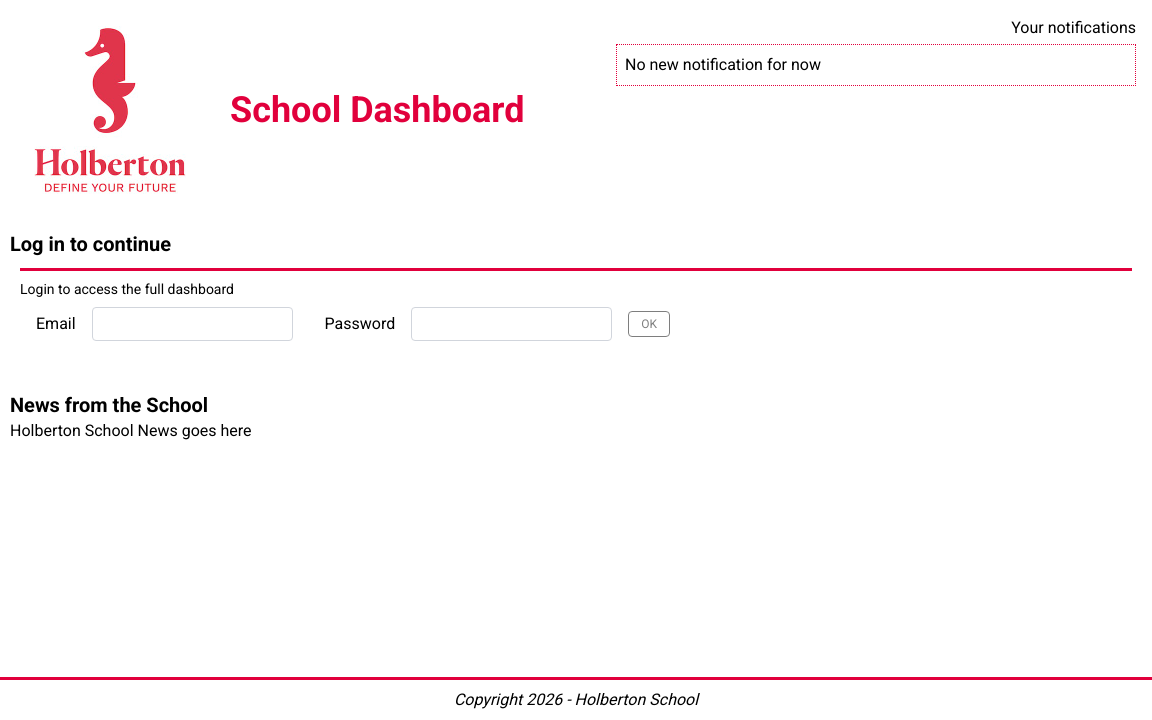
it: App (Task 4) › renders CourseList after a successful login (instead of isLoggedIn=true prop)
Type "user@test.com" into the field labelled "Email" at [192, 324], box [92,307,293,341]
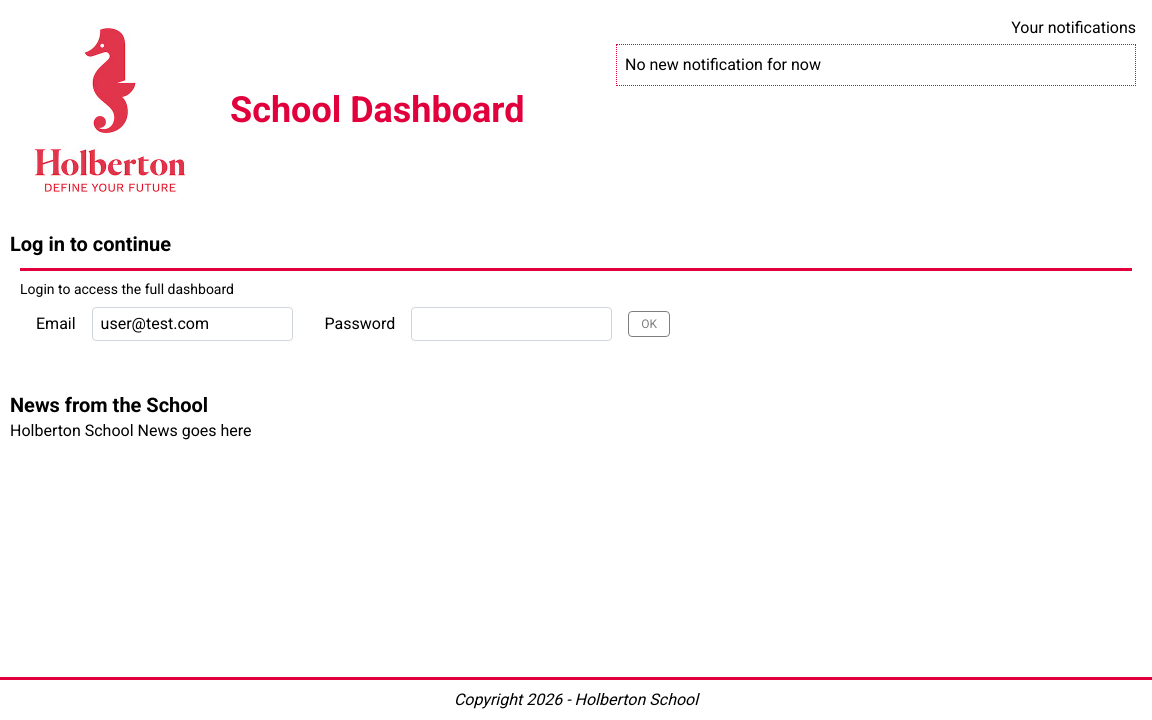
Type "longpass" into the password field labelled "Password" at [512, 324], box [411,307,612,341]
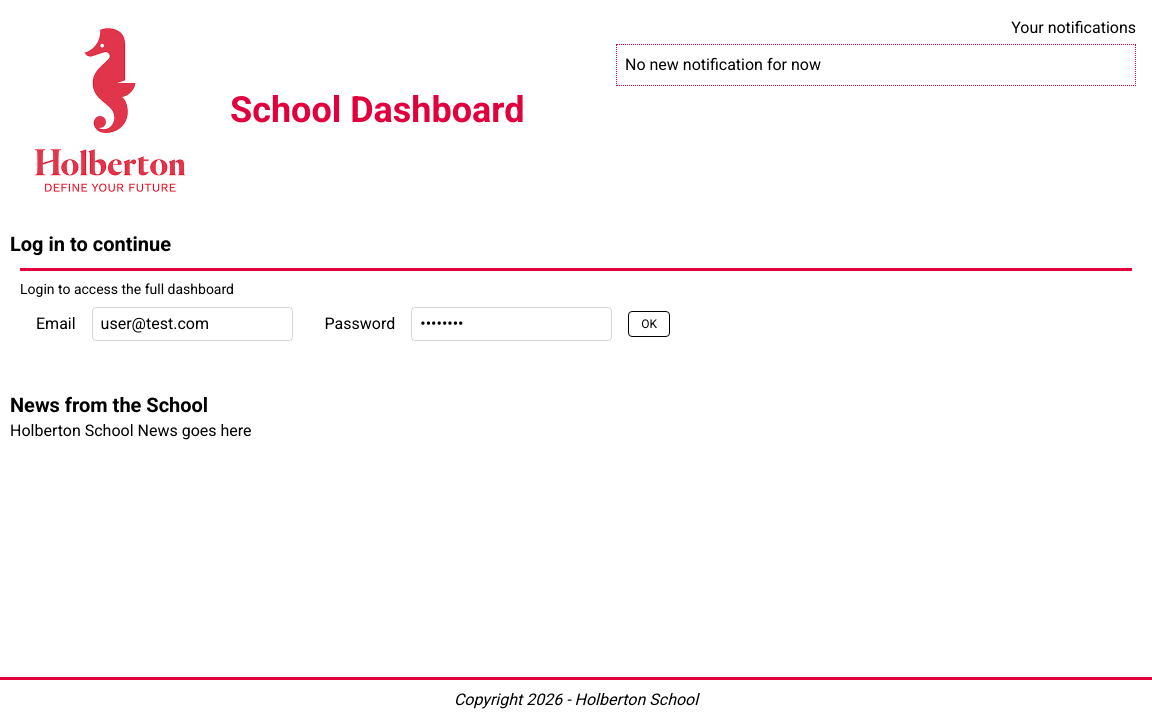
Click the button "OK" at [649, 324], box [628,311,670,337]
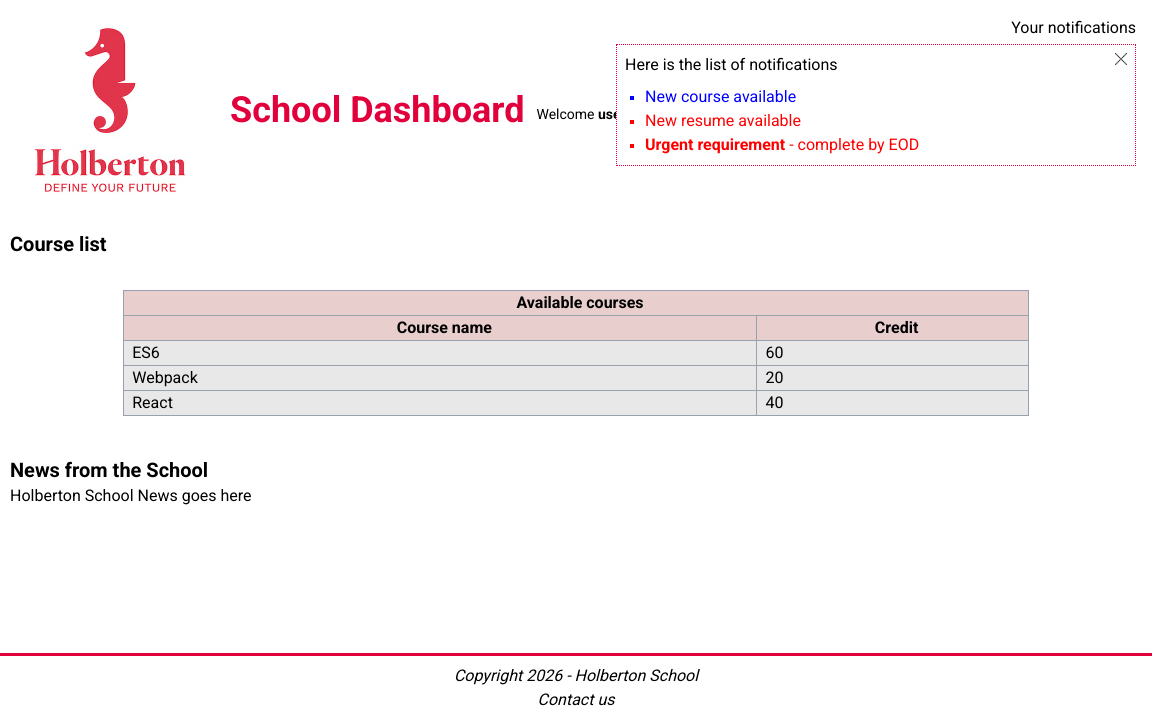
Check: the element with id "CourseList" is shown, box [124,290,1028,416]
Check: the label labelled "Email" is gone
Check: the label labelled "Password" is gone
